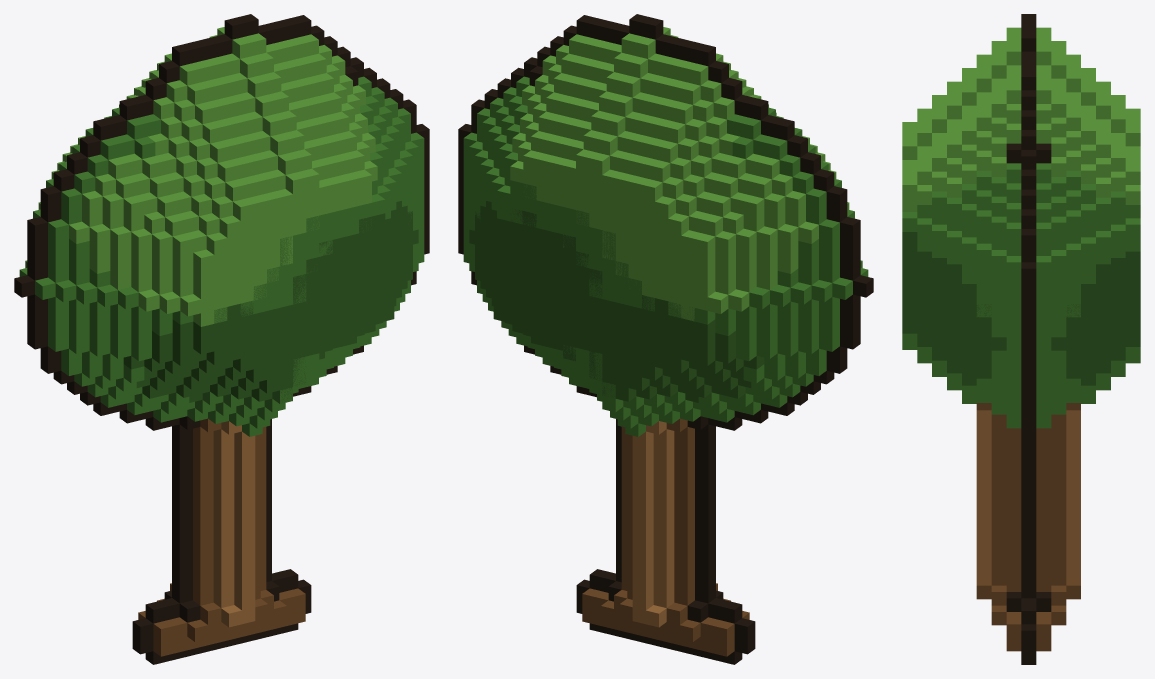
Rendered from tree.glb.
The picture shows the model from 3 angles, left to right: view 1: azimuth 30°, elevation 25°; view 2: azimuth 150°, elevation 25°; view 3: azimuth 270°, elevation 25°; orthographic projection.
Visible parts, largest first — view 1: f0, f1; view 2: f0, f1; view 3: f1, f0.
Boxes of the visible parts, bbox=[...] form: f0: bbox=[14, 17, 429, 664]; f1: bbox=[109, 14, 429, 421]; f0: bbox=[458, 17, 873, 664]; f1: bbox=[458, 14, 780, 419]; f1: bbox=[902, 20, 1140, 441]; f0: bbox=[902, 14, 1140, 664].
Size of the model in its own units: 1.94 by 2.81 by 1.
